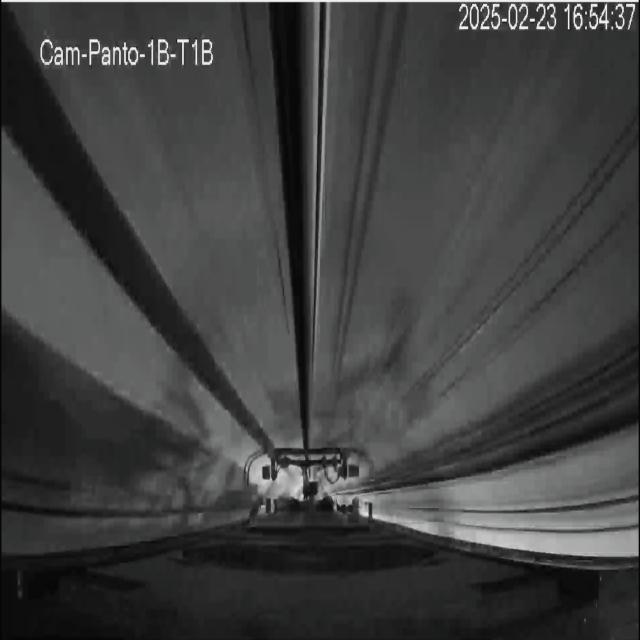Camera Stamp: (36, 28, 219, 70)
Date Stamp: (458, 3, 636, 33)
